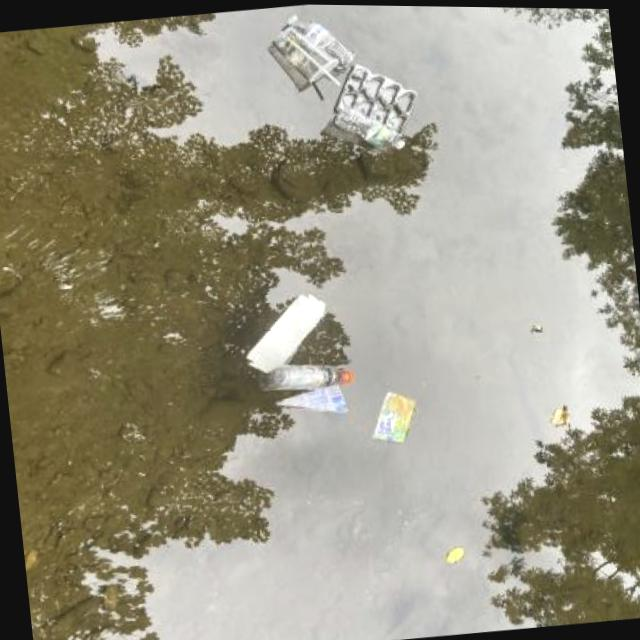Cardboard: (362, 382, 423, 449)
Paper: (230, 286, 338, 381)
Plastic: (328, 60, 427, 158), (269, 4, 361, 97), (262, 351, 362, 402), (266, 377, 352, 429)
